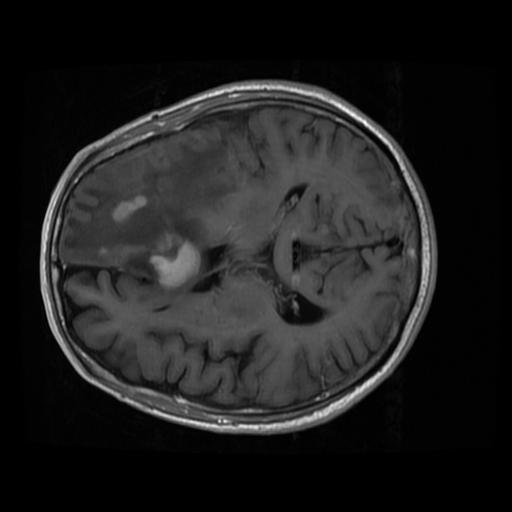glioma: (64, 134, 240, 298)
